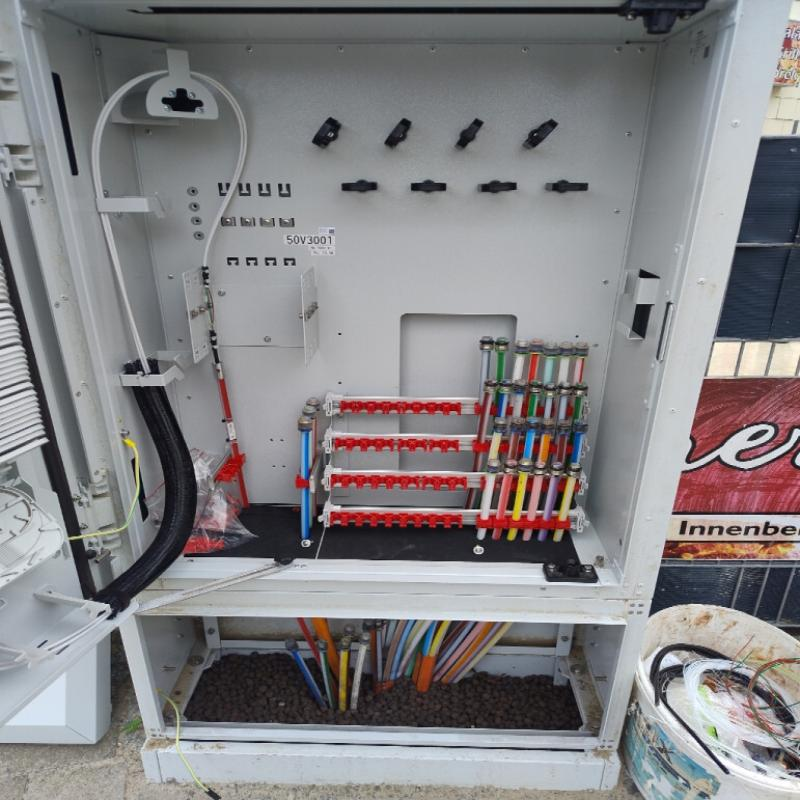NT-Gehause: (1, 1, 794, 772)
Spleiskassetten: (0, 213, 74, 601)
